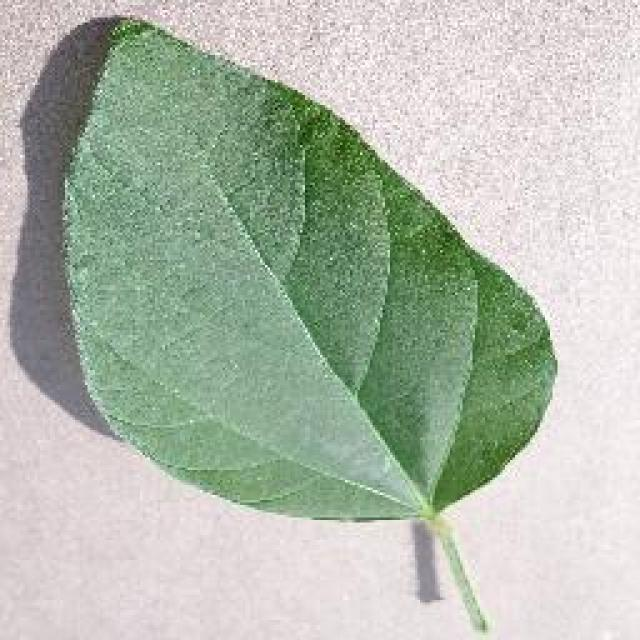Soy_healthy: (63, 42, 547, 514)
